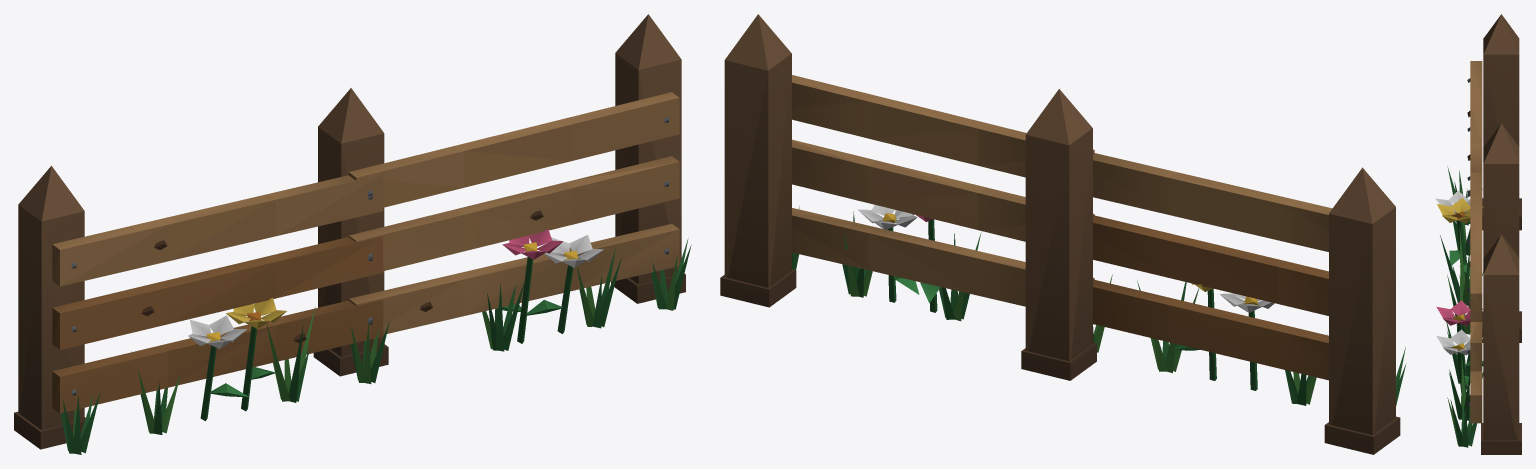
File: fence.glb
The picture shows the model from 3 angles, left to right: view 1: azimuth 30°, elevation 25°; view 2: azimuth 150°, elevation 25°; view 3: azimuth 270°, elevation 25°; orthographic projection. The views are drawn at different scales.
Parts seen in each view (by area): view 1: base; view 2: base; view 3: base.
Boxes of the visible parts, x1,y1,x2,y2 form: base: (14,14,691,454); base: (720,14,1406,454); base: (1435,14,1521,454).
Size of the model in its own units: 0.9582 by 0.3912 by 0.1446.
